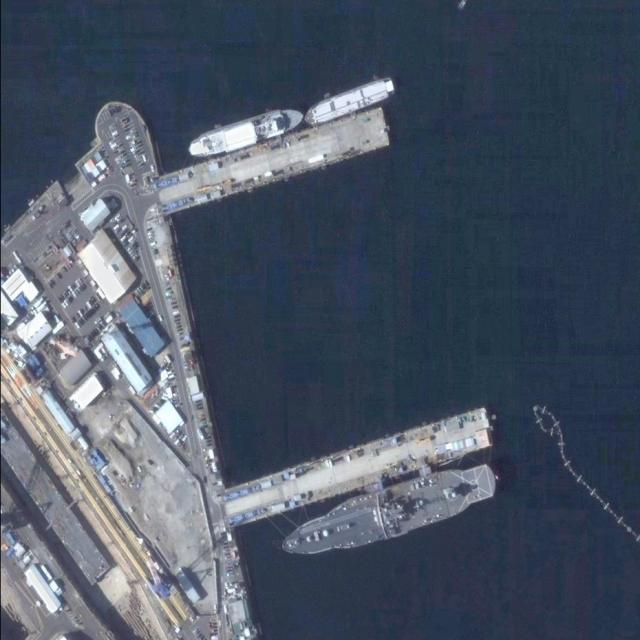Commander: (273, 457, 503, 570)
Dock: (219, 405, 497, 532), (150, 105, 395, 213)
Other Warship: (184, 104, 307, 160), (300, 76, 399, 129)
